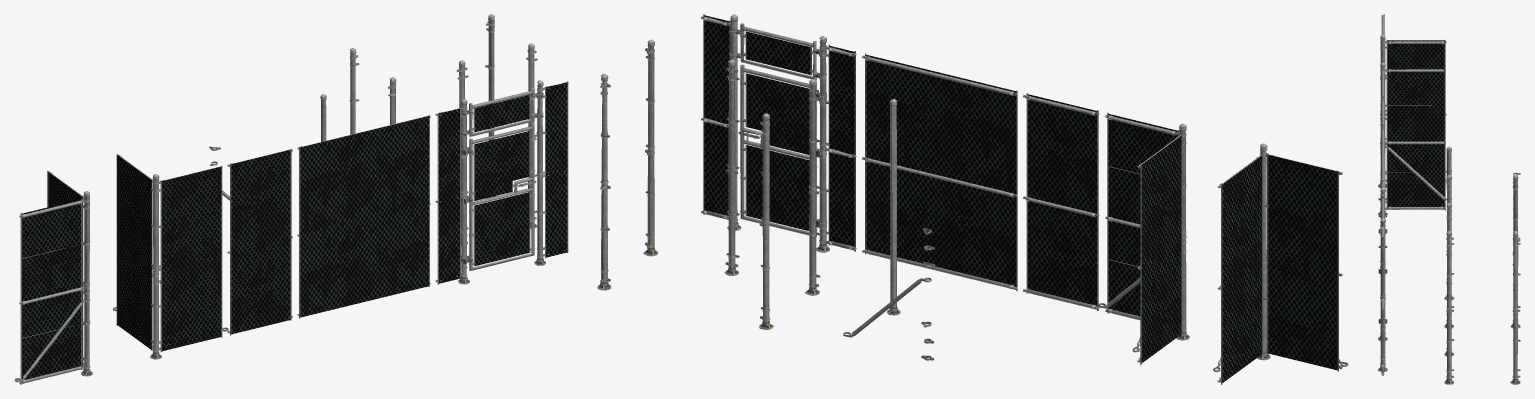
File: modular_chainlink_fence.glb
3 views of the same model, side by side, from view 1: azimuth 30°, elevation 25°; view 2: azimuth 150°, elevation 25°; view 3: azimuth 270°, elevation 25° (orthographic). The views are drawn at different scales.
Visible parts, largest first — view 1: modular_chainlink_fence_double, modular_chainlink_fence_corner_outer, modular_chainlink_fence_door_frame, modular_chainlink_fence_corner_inner, modular_chainlink_fence, modular_chainlink_fence_door_gate, modular_chainlink_fence_start_01_corner_02, modular_chainlink_fence_start_01_corner_01, modular_chainlink_fence_end_02; view 2: modular_chainlink_fence_double, modular_chainlink_fence_corner_inner, modular_chainlink_fence_corner_outer, modular_chainlink_fence_door_frame, modular_chainlink_fence, modular_chainlink_fence_door_gate, modular_chainlink_post_middle, modular_chainlink_fence_end_02, modular_chainlink_fence_end_01, modular_chainlink_fence_start_01_corner_01, modular_chainlink_fence_start_01_corner_02, modular_chainlink_fence_post; view 3: modular_chainlink_fence_corner_outer, modular_chainlink_fence_corner_inner, modular_chainlink_fence_door_frame, modular_chainlink_fence_start_01_corner_02, modular_chainlink_fence_start_01_corner_01, modular_chainlink_fence_end_02, modular_chainlink_fence_double, modular_chainlink_fence_post, modular_chainlink_post_middle, modular_chainlink_fence_end_01.
Part boxes in pixels (box(x1,y1,x2,y2)): modular_chainlink_fence_double: box(297, 115, 430, 318); modular_chainlink_fence_corner_outer: box(113, 154, 228, 359); modular_chainlink_fence_door_frame: box(435, 80, 568, 284); modular_chainlink_fence_corner_inner: box(14, 170, 92, 384); modular_chainlink_fence: box(227, 149, 292, 335); modular_chainlink_fence_door_gate: box(469, 123, 535, 270); modular_chainlink_fence_start_01_corner_02: box(485, 14, 496, 198); modular_chainlink_fence_start_01_corner_01: box(526, 43, 537, 228); modular_chainlink_fence_end_02: box(349, 48, 359, 134); modular_chainlink_fence_double: box(862, 53, 1017, 291); modular_chainlink_fence_corner_inner: box(1213, 143, 1348, 384); modular_chainlink_fence_corner_outer: box(1098, 112, 1189, 365); modular_chainlink_fence_door_frame: box(701, 14, 856, 252); modular_chainlink_fence: box(1023, 93, 1099, 310); modular_chainlink_fence_door_gate: box(740, 64, 817, 236); modular_chainlink_post_middle: box(724, 59, 739, 275); modular_chainlink_fence_end_02: box(759, 113, 773, 329); modular_chainlink_fence_end_01: box(805, 79, 820, 295); modular_chainlink_fence_start_01_corner_01: box(643, 39, 657, 256); modular_chainlink_fence_start_01_corner_02: box(597, 73, 611, 290); modular_chainlink_fence_post: box(886, 98, 900, 315); modular_chainlink_fence_corner_outer: box(1378, 62, 1451, 214); modular_chainlink_fence_corner_inner: box(1378, 14, 1451, 188); modular_chainlink_fence_door_frame: box(1377, 183, 1387, 375); modular_chainlink_fence_start_01_corner_02: box(1510, 230, 1520, 384); modular_chainlink_fence_start_01_corner_01: box(1444, 230, 1454, 384); modular_chainlink_fence_end_02: box(1510, 174, 1520, 328); modular_chainlink_fence_double: box(1381, 126, 1384, 187); modular_chainlink_fence_post: box(1444, 146, 1454, 300); modular_chainlink_post_middle: box(1444, 202, 1453, 356); modular_chainlink_fence_end_01: box(1444, 174, 1453, 328).
Size of the model in its own units: 8.12 by 2.52 by 2.16.
Materials: 2 (2 with a texture image).
